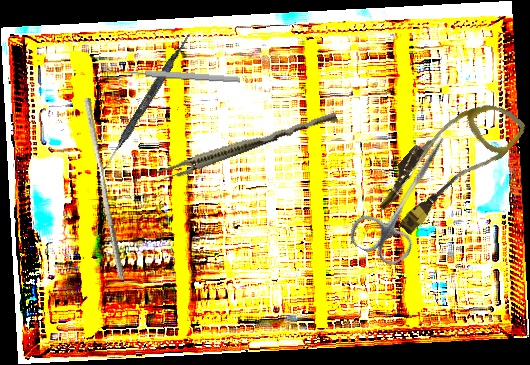Cannula: (368, 78, 529, 248)
Iris Scissors: (344, 120, 469, 272)
Pusher: (76, 97, 133, 281)
Spatula Surgical: (99, 30, 192, 176)
Surgical Spoon: (106, 66, 241, 84)
Tissue Forceps: (155, 105, 339, 186)
